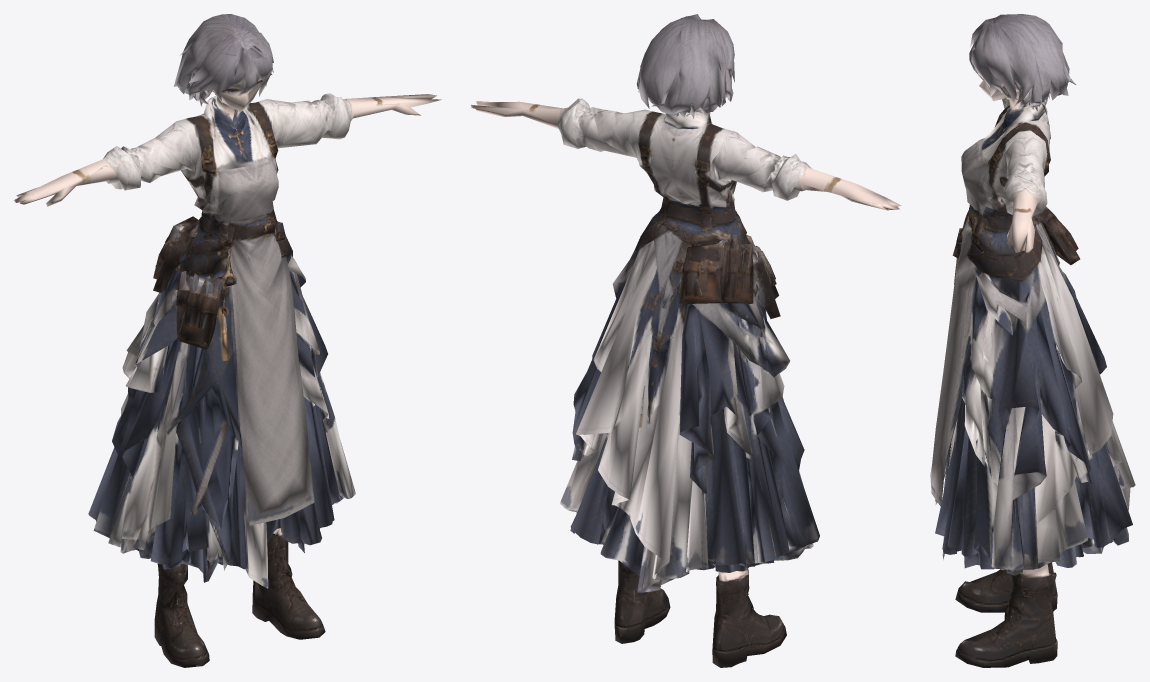
The model's file is Sculptor.fbx.
3 views of the same model, side by side, from view 1: azimuth 30°, elevation 25°; view 2: azimuth 150°, elevation 25°; view 3: azimuth 270°, elevation 25° (orthographic).
Parts seen in each view (by area): view 1: Mesh_0; view 2: Mesh_0; view 3: Mesh_0.
Boxes of the visible parts, x1=… form: Mesh_0: x1=14, y1=14, x2=441, y2=667; Mesh_0: x1=471, y1=14, x2=901, y2=667; Mesh_0: x1=930, y1=14, x2=1135, y2=667.
Size of the model in its own units: 137 by 190 by 57.28.
Materials: 1 (1 with a texture image).
